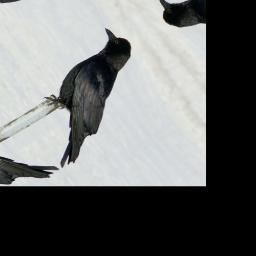Crow: (0, 22, 177, 171)
